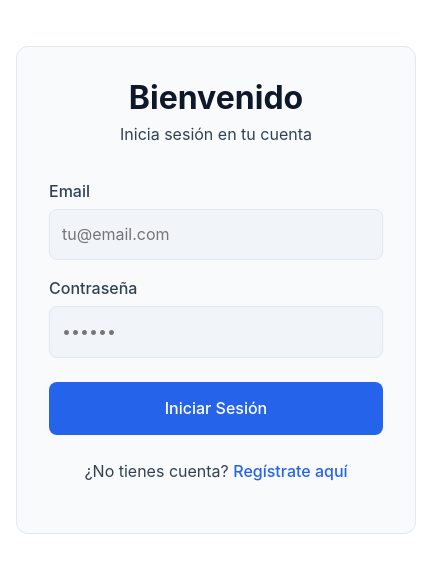
Flujo de Autenticación › Login › debe mostrar error con credenciales inválidas
The image size is (433, 581).
Type "test@test.com" into the field labelled "Email" at {"x": 216, "y": 235}, box 49,209 -> 383,260
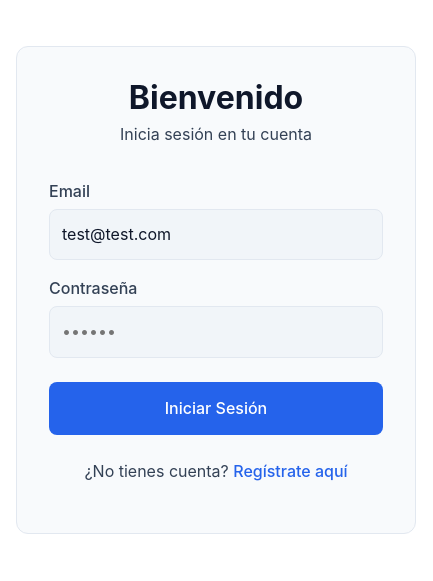
Type "wrongpass" into the password field labelled "Contraseña" at {"x": 216, "y": 332}, box 49,306 -> 383,358
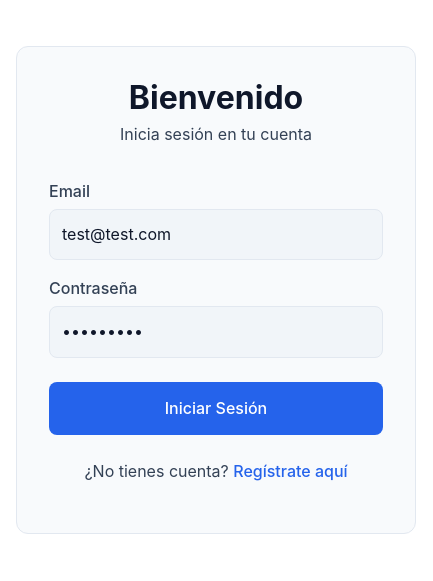
Click the button "Iniciar Sesión" at {"x": 216, "y": 408}, box 49,382 -> 383,435
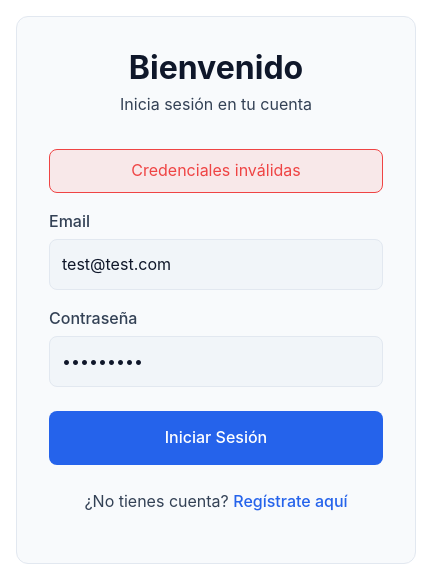
Expected: the text "Credenciales inválidas" is shown, 49,149 -> 383,193
